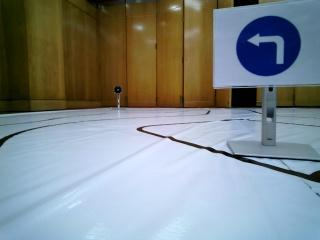left: (219, 13, 310, 78)
